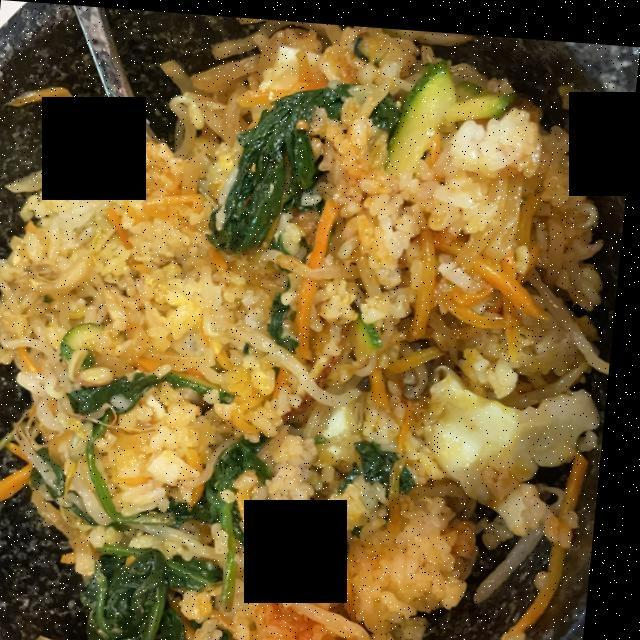cabbage: (429, 377, 604, 456)
rice: (3, 32, 609, 640)
sprouts: (229, 235, 366, 402)
zucchini: (68, 61, 517, 367)
